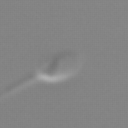normal: (1, 74, 39, 102)
